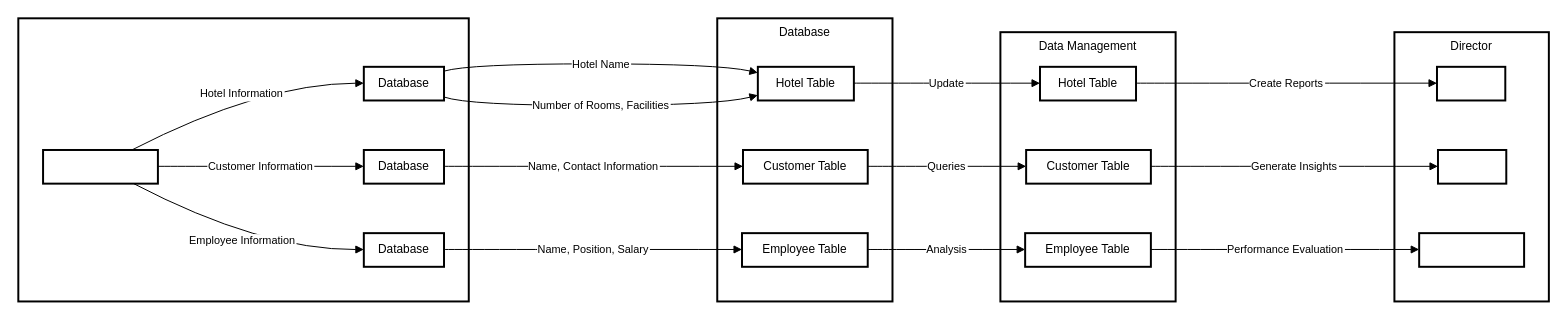
The diagram is 1566 pixels wide and 319 high, and some of its shapes have lost their labels. Each missing label, with the box of its shape:
Data Source: (17, 17, 469, 302)
Hotels System: (42, 148, 158, 184)
Insights: (1436, 148, 1507, 184)
Performance: (1418, 232, 1525, 267)
Reports: (1436, 65, 1506, 101)
